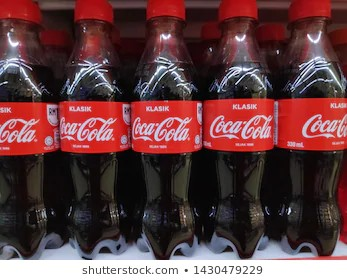coke-bottle-300ml: (206, 2, 278, 252), (135, 1, 204, 249), (277, 1, 345, 251), (59, 4, 128, 249)
